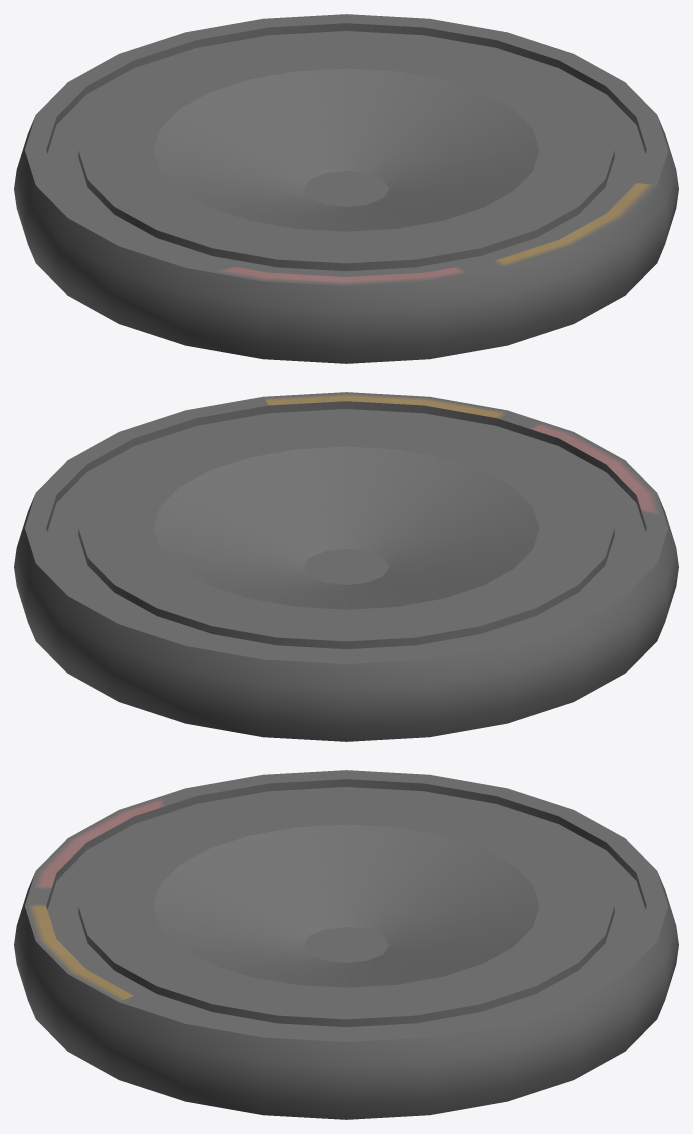
File: Eridani_DockingMechanism_2.obj
The picture shows the model from 3 angles, top to bottom: view 1: azimuth 30°, elevation 25°; view 2: azimuth 150°, elevation 25°; view 3: azimuth 270°, elevation 25°; orthographic projection.
Visible parts, largest first — view 1: Eridani_DockingMechanism_2; view 2: Eridani_DockingMechanism_2; view 3: Eridani_DockingMechanism_2.
Part boxes in pixels (left/top/right/bottom): Eridani_DockingMechanism_2: left=14, top=14, right=678, bottom=363; Eridani_DockingMechanism_2: left=14, top=392, right=678, bottom=741; Eridani_DockingMechanism_2: left=14, top=770, right=678, bottom=1119.
Bounding box in the file's own units: 0.9688 × 0.125 × 0.9688.
